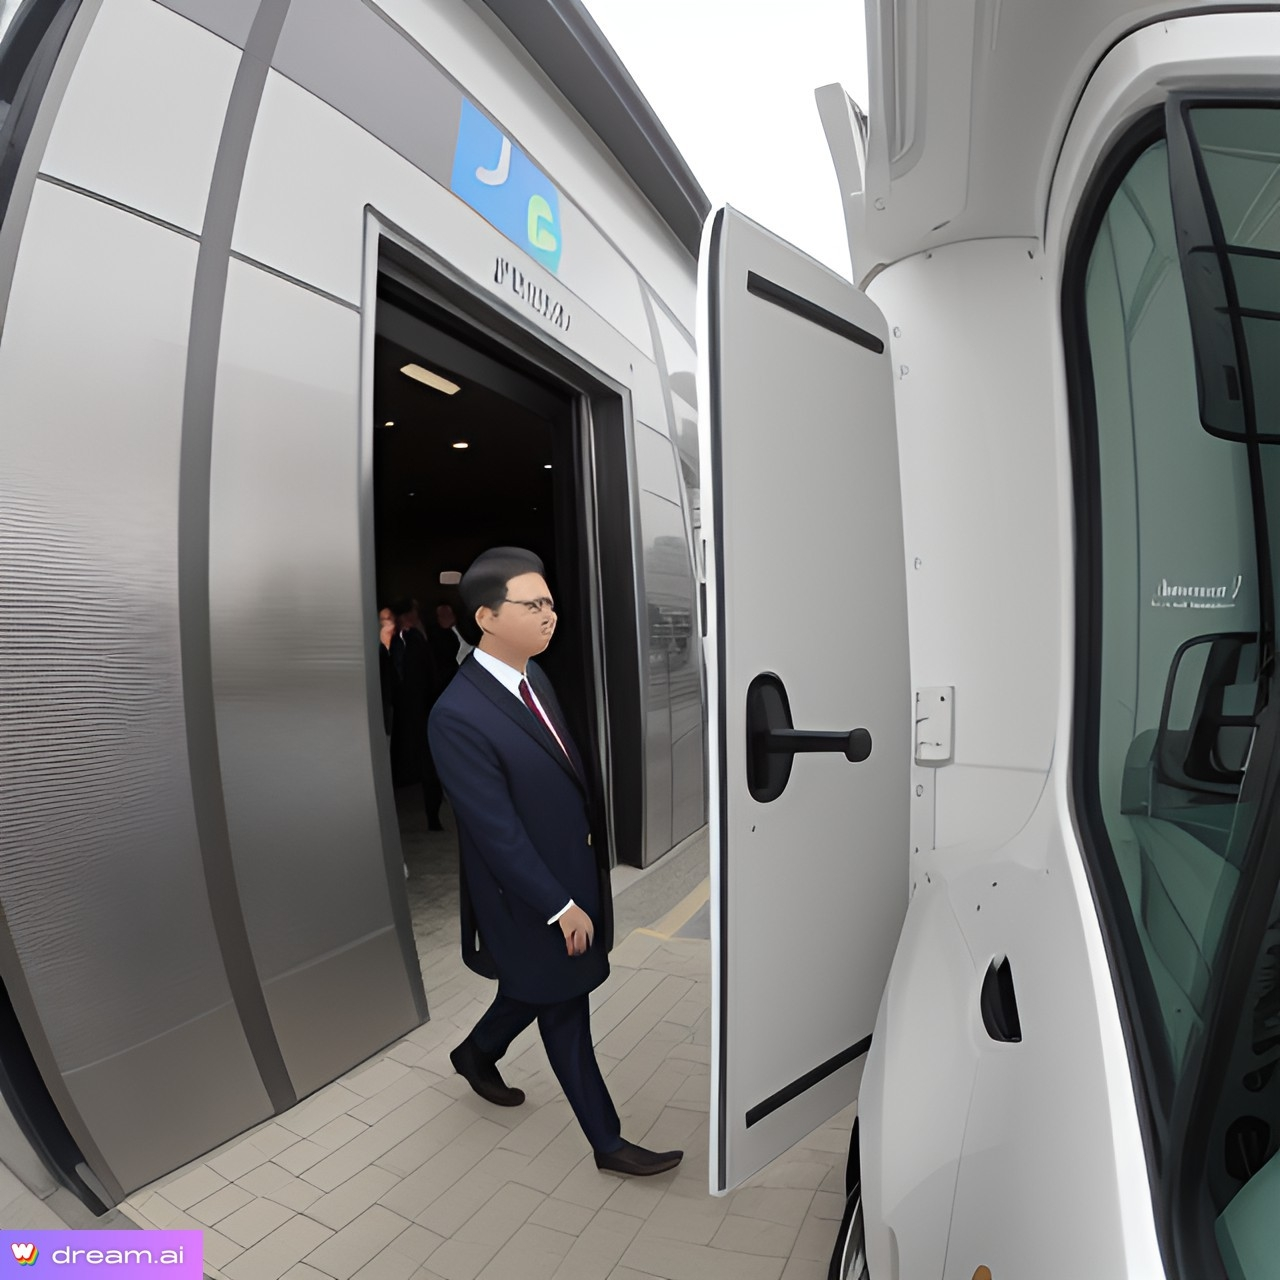door_front: (669, 185, 939, 1208)
